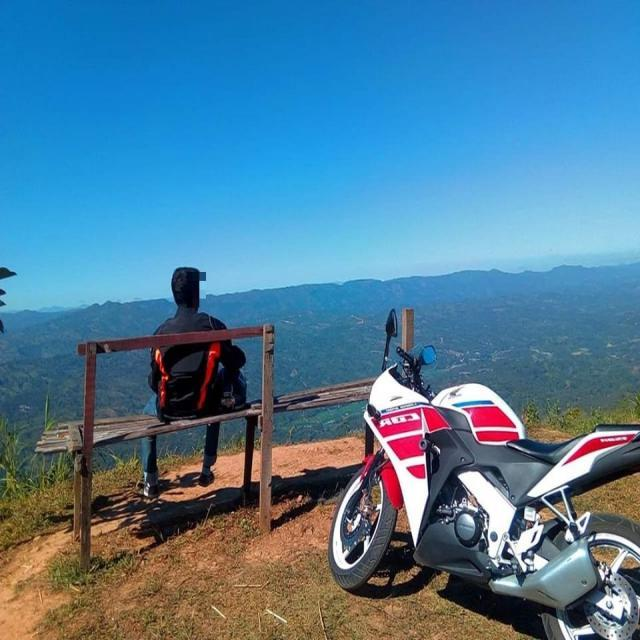Motorbike: (297, 293, 640, 640)
